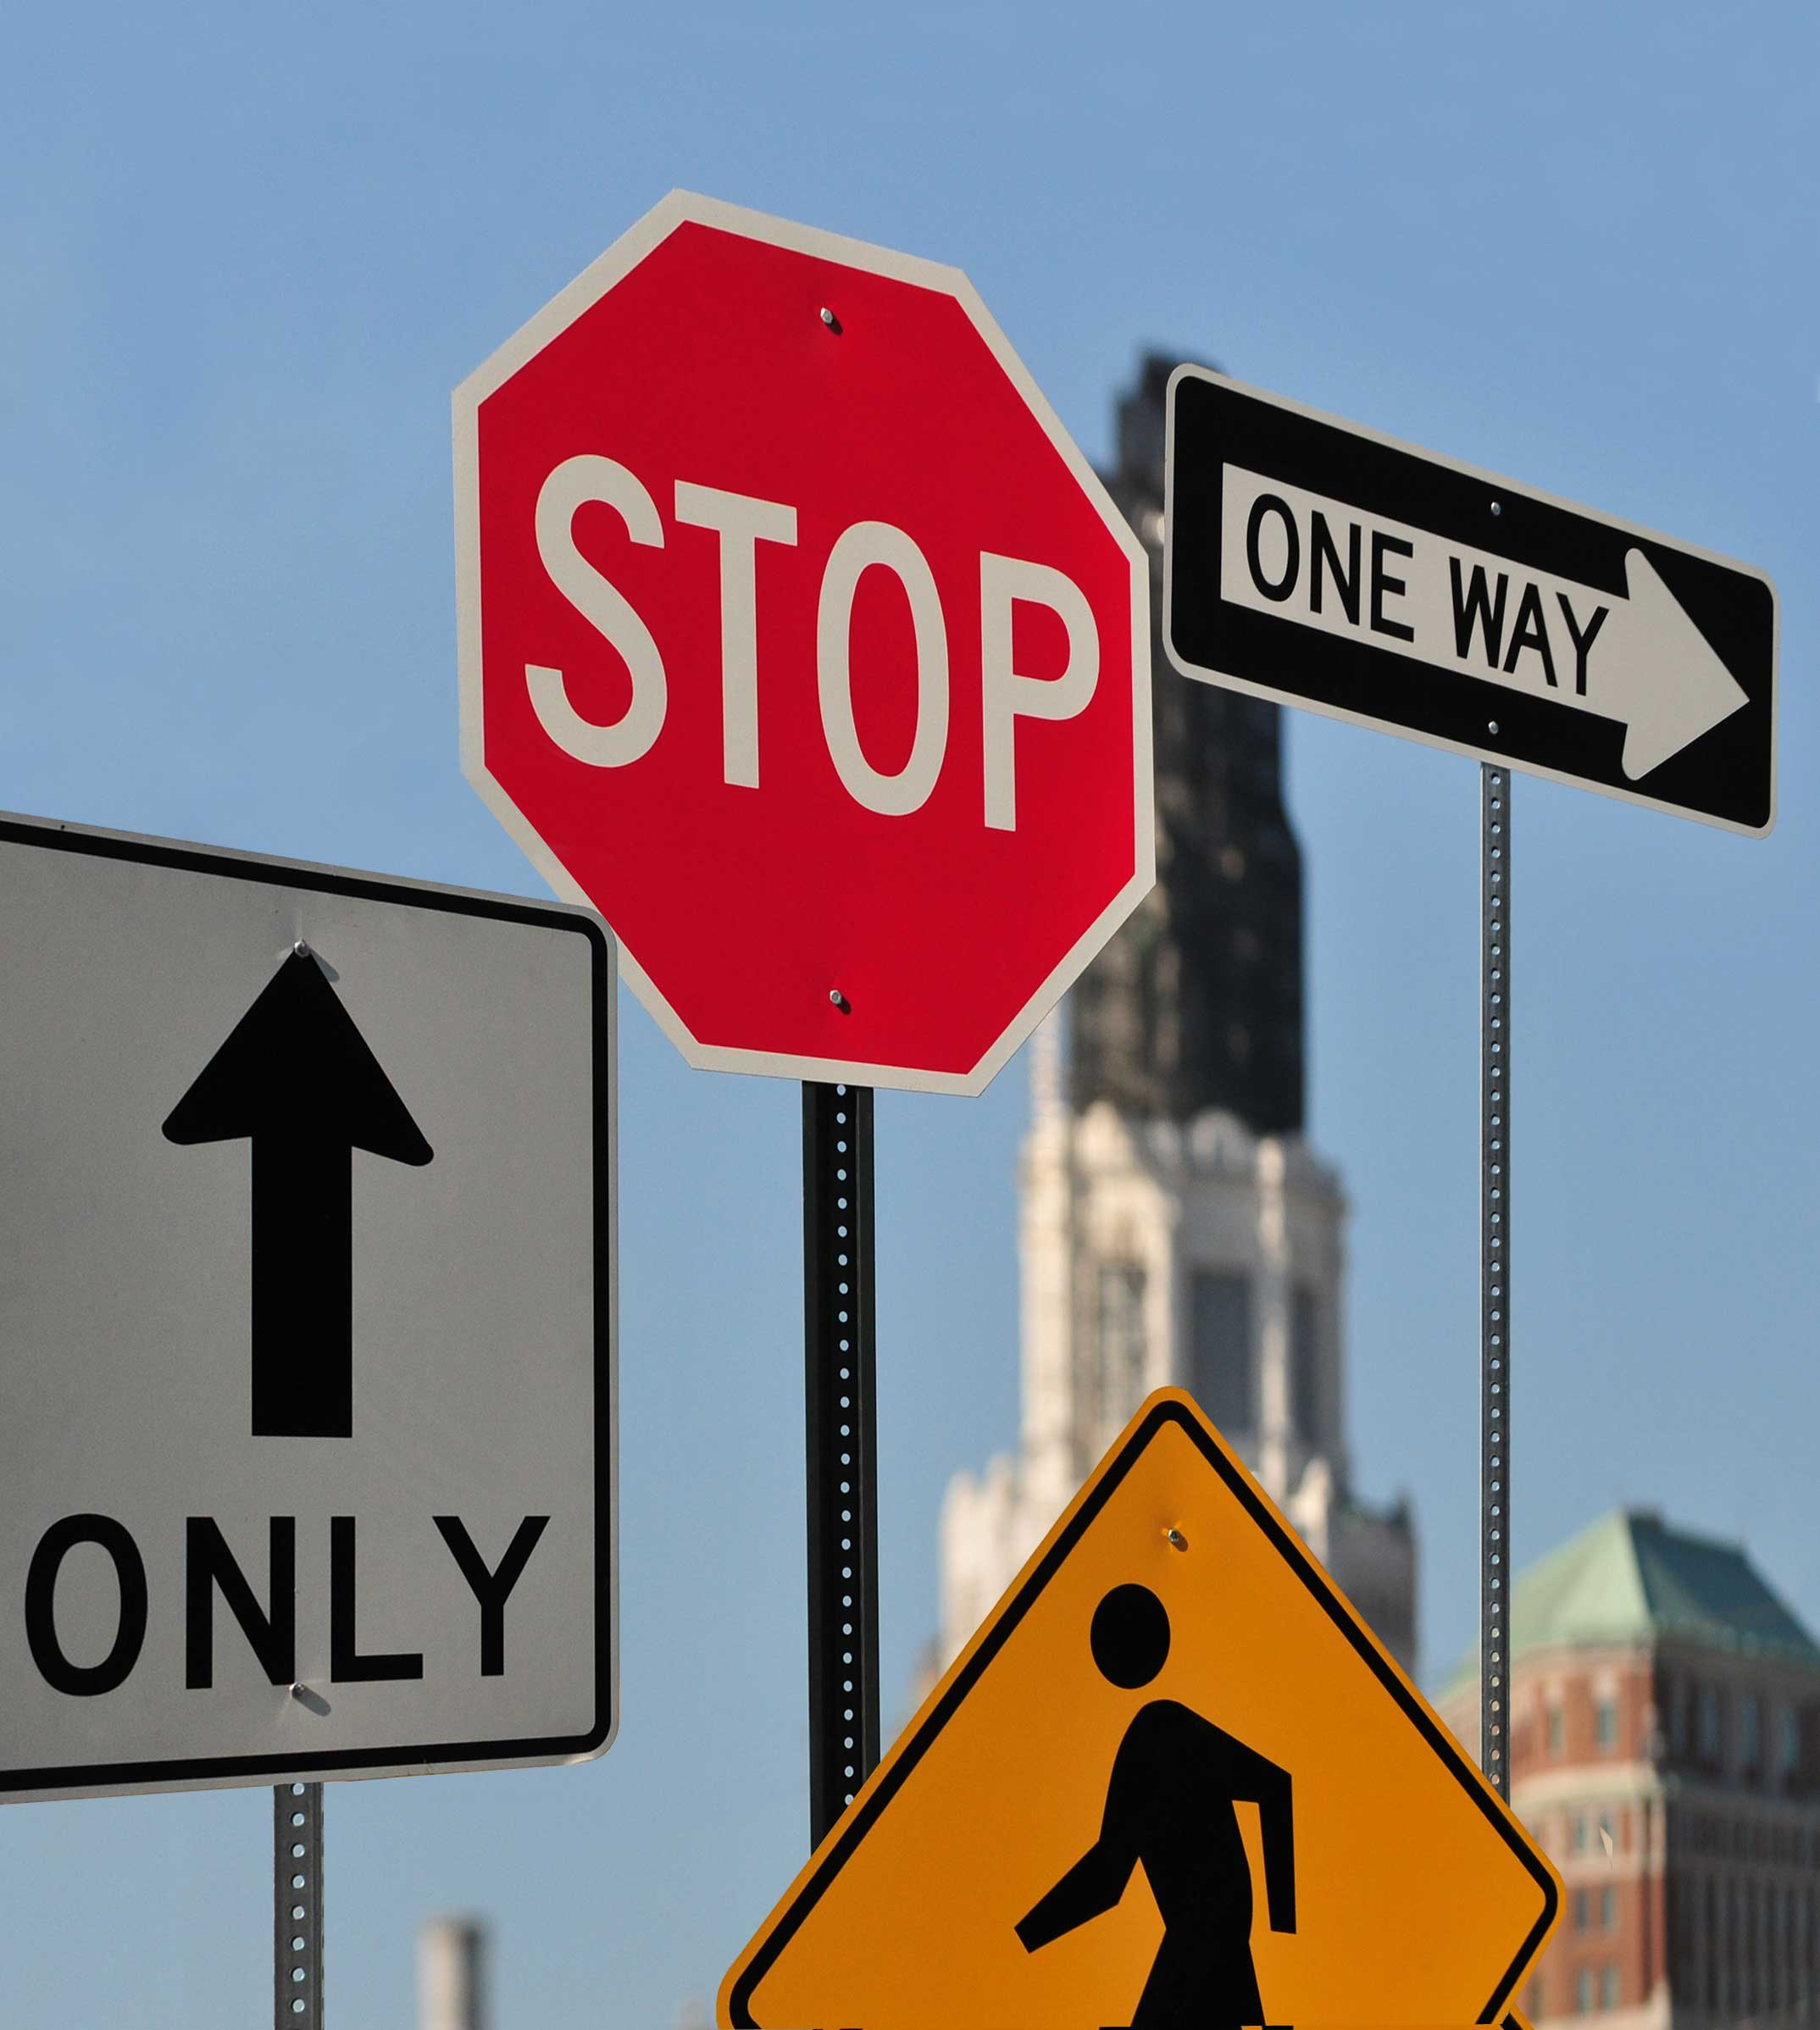stop: (451, 195, 1154, 1110), (460, 197, 1144, 996), (451, 423, 1158, 1108), (466, 212, 1014, 839), (762, 212, 1140, 1098)
